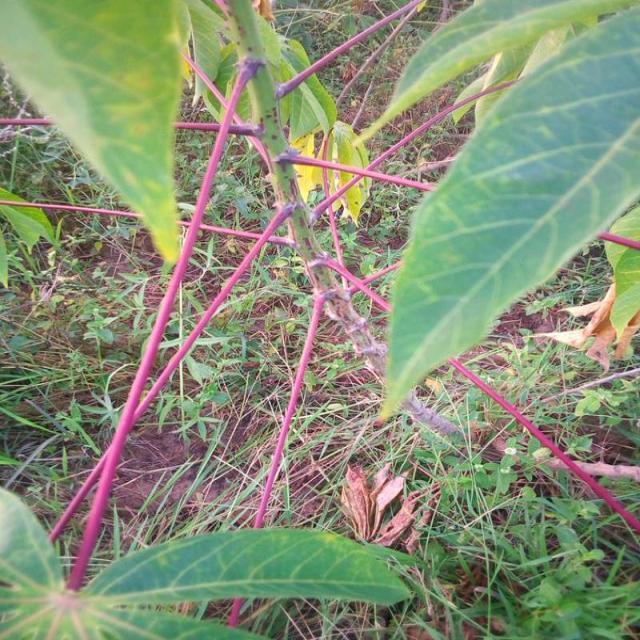cassava leaf: (377, 3, 638, 424), (0, 0, 190, 267), (74, 526, 412, 611), (323, 119, 372, 224)
